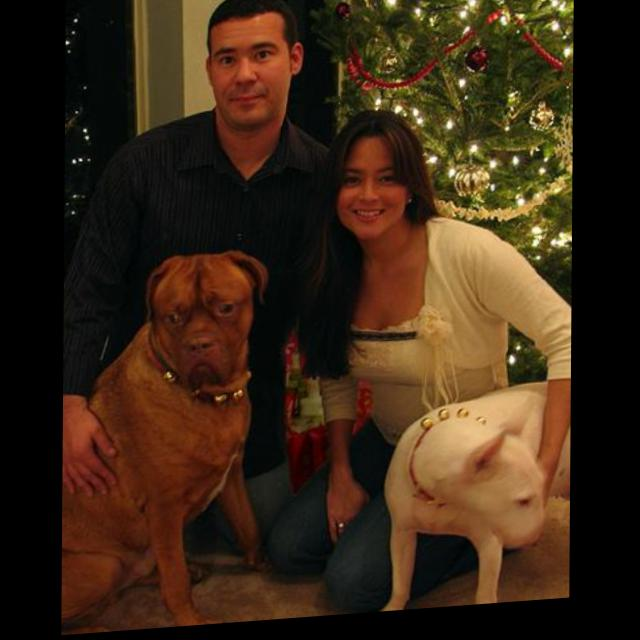bullmastiff: (63, 250, 273, 637)
bullterrier: (362, 388, 572, 619)
face: (211, 17, 292, 132), (339, 139, 409, 245)
person: (63, 1, 337, 586), (267, 104, 574, 625)
